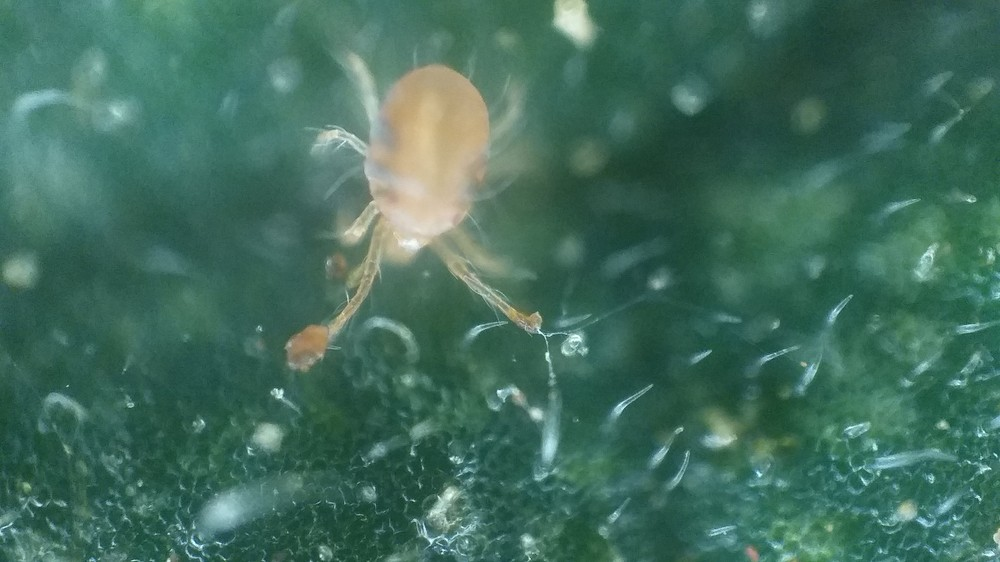Aracnido Rojo: (249, 24, 562, 370)
